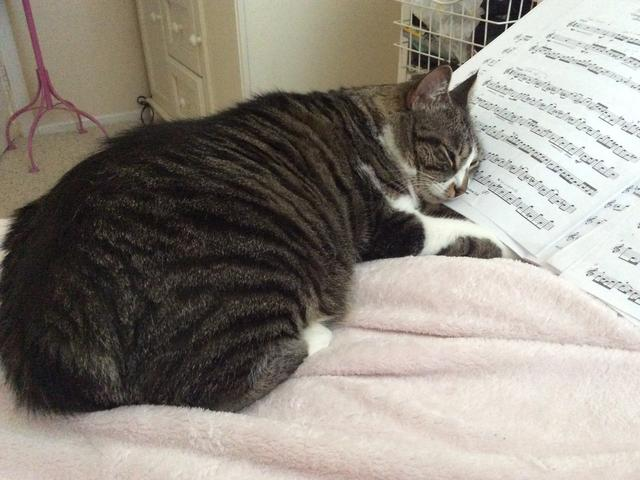playdoh: (1, 63, 516, 418)
